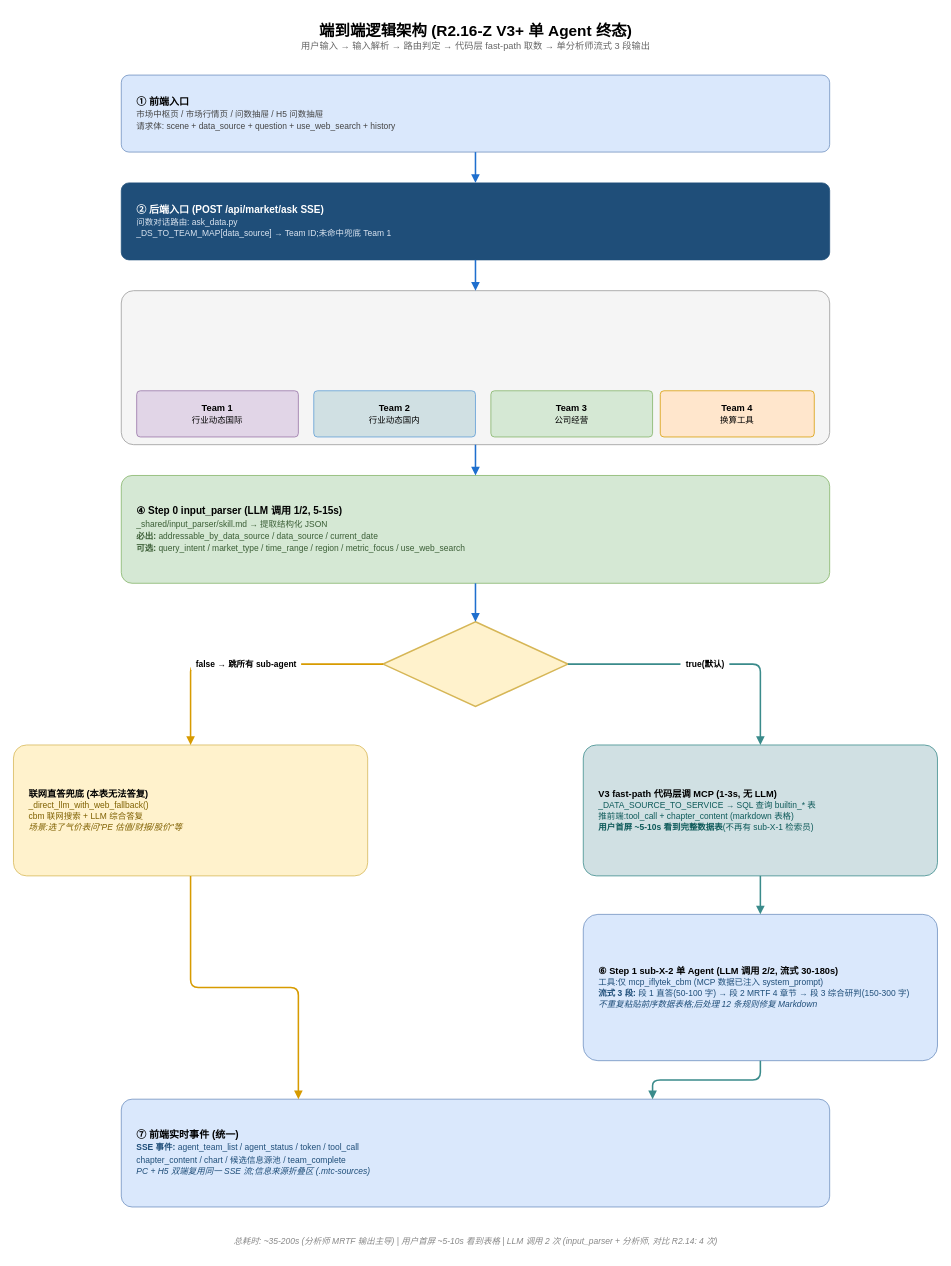
The diagram is 951 pixels wide and 1266 high, and some of its shapes have lost their labels. The box of each missing label's shape, as (x1, y1, x2, y2) in pixels:
③ Team 路由 (4 Teams) 前端选中数据卡片 → data_source 已知 → 直接命中目标 Team: (121, 290, 830, 445)
⑤ 路由判定 addressable?: (382, 621, 568, 707)
